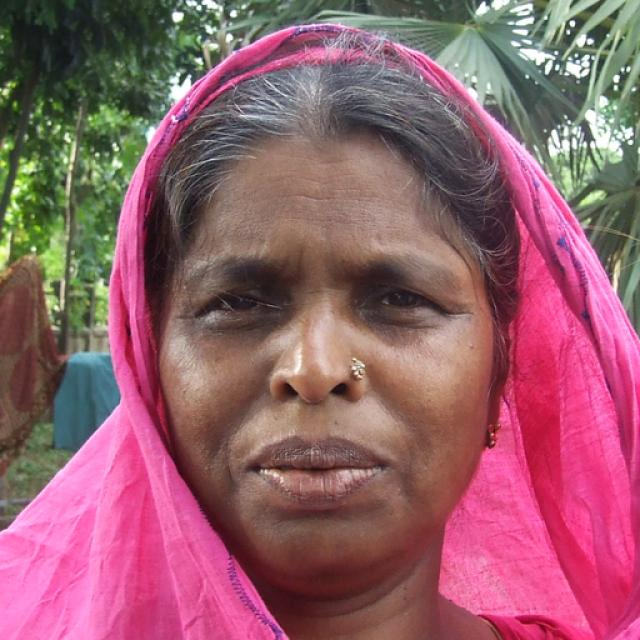Acne: (461, 339, 480, 355)
Dark Circle: (355, 310, 440, 345), (206, 310, 283, 345)
Wrinkle: (270, 191, 333, 205)
